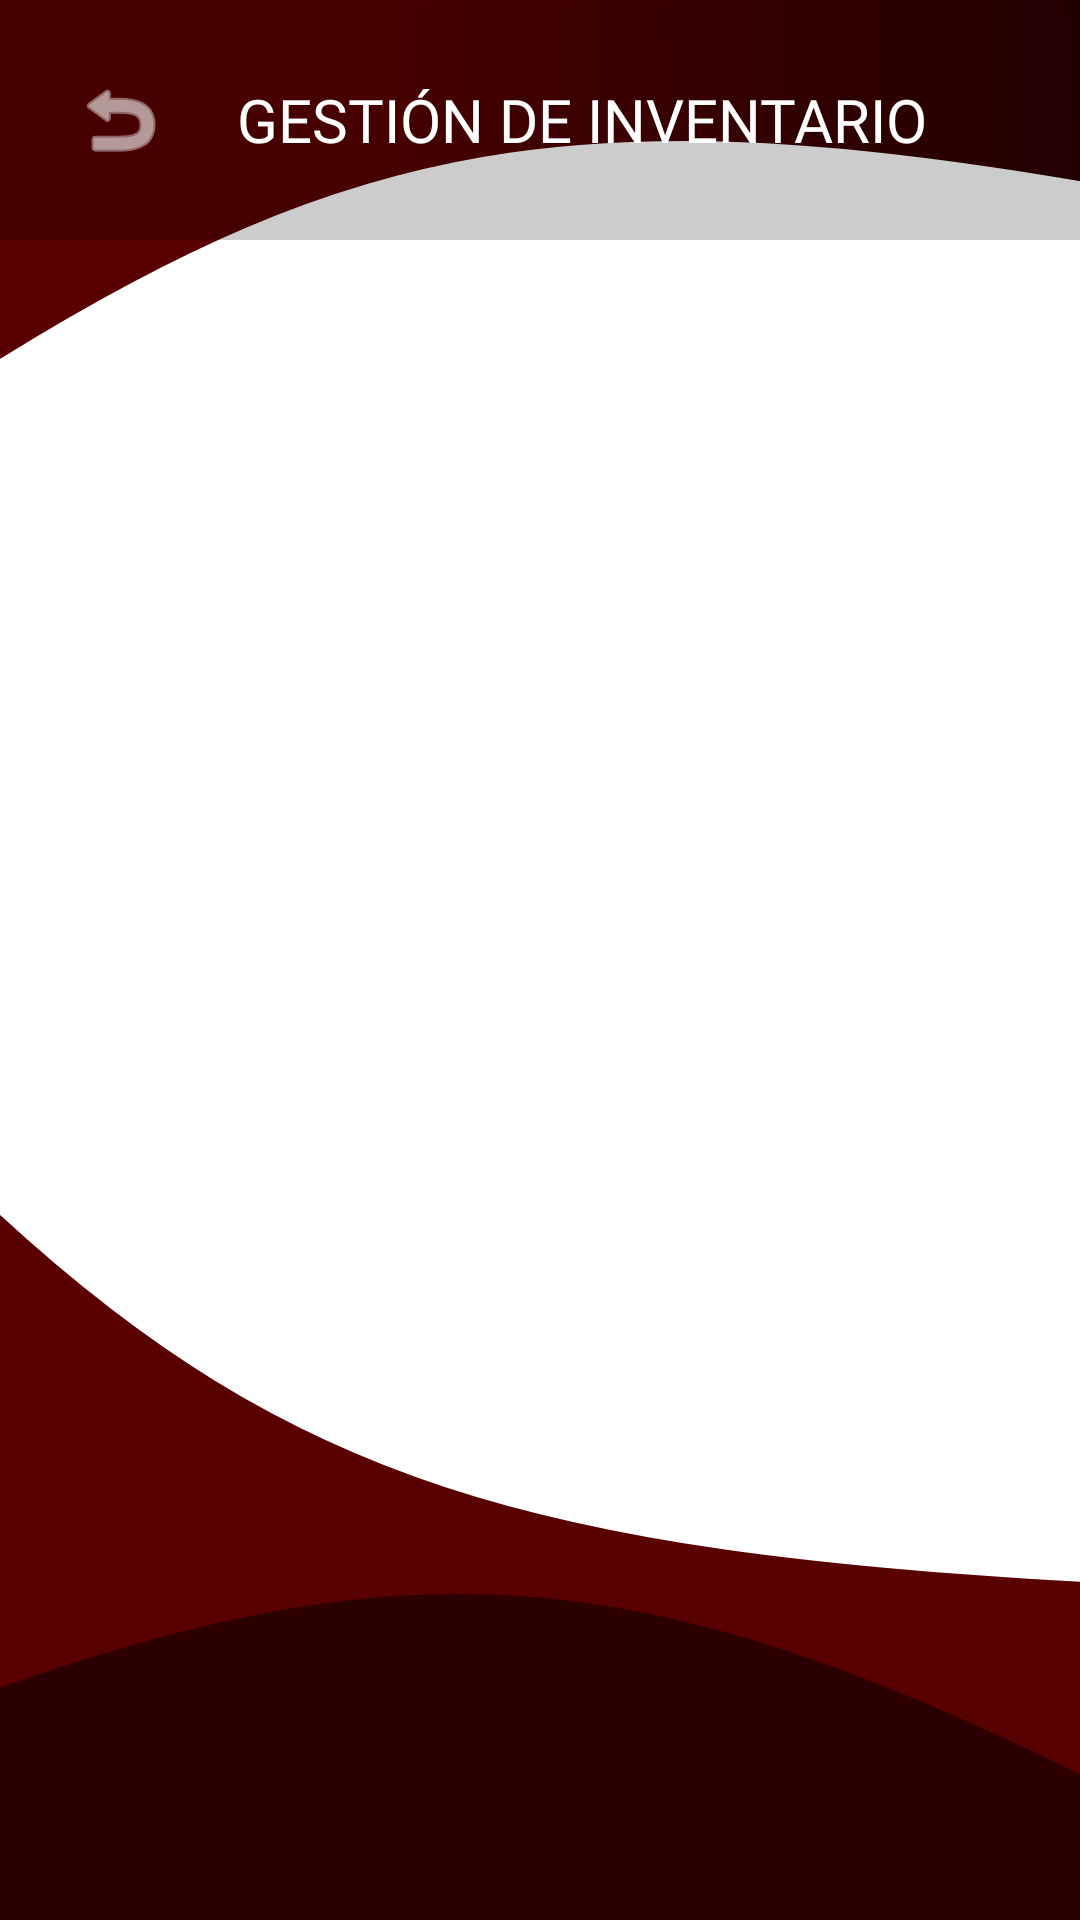

Named icons in this screenshot (1080*1920) and their centers, (x=x, y=y):
Regresar: (x=121, y=120)
